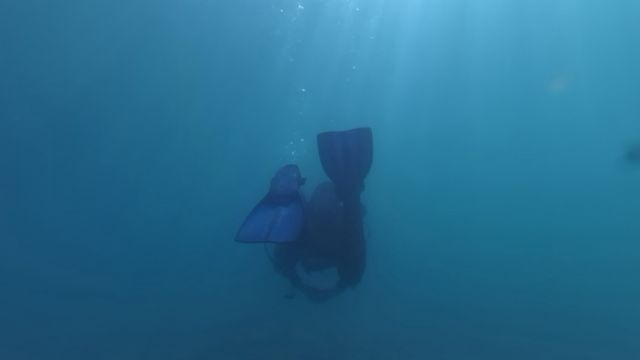Diver: (231, 124, 384, 310)
Hand: (314, 282, 339, 307), (299, 281, 322, 305)
